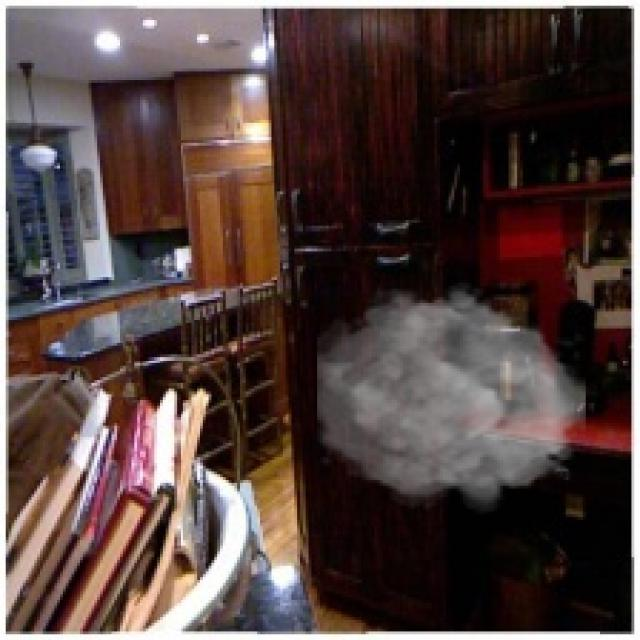Smoke: (317, 280, 586, 514)
